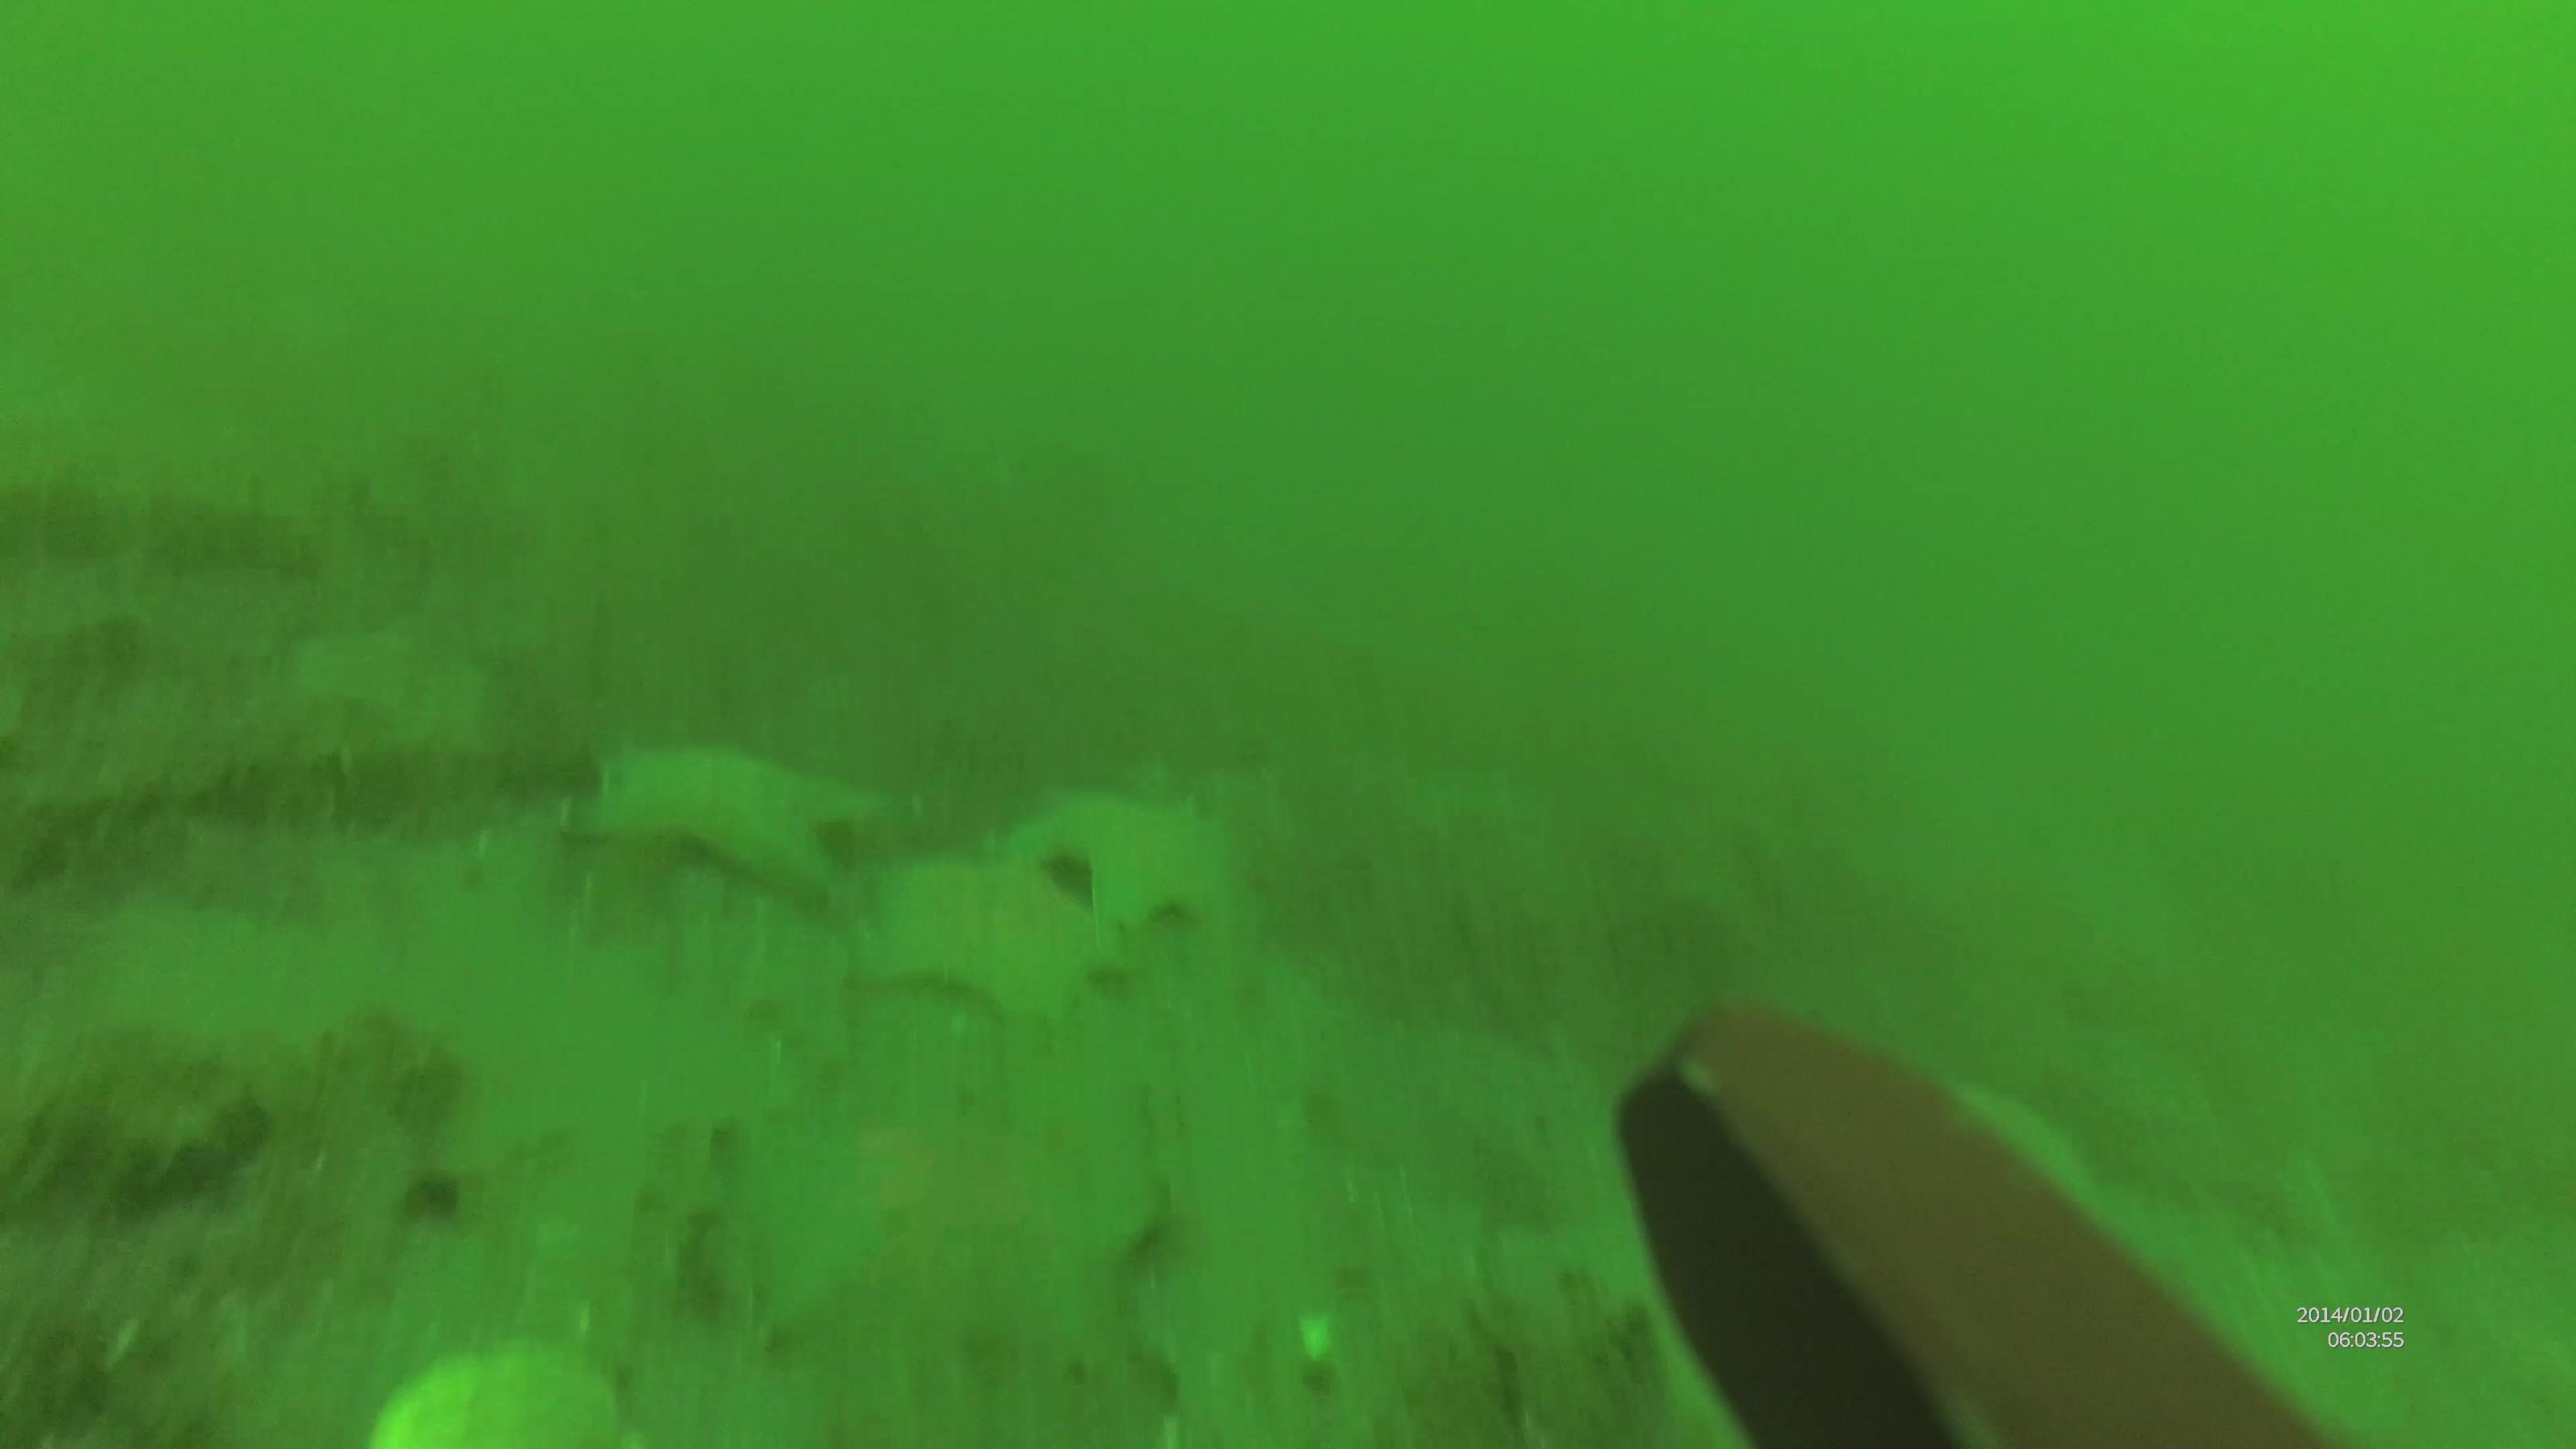starfish: (563, 738, 881, 904), (876, 856, 1134, 1012), (1014, 787, 1219, 931)
